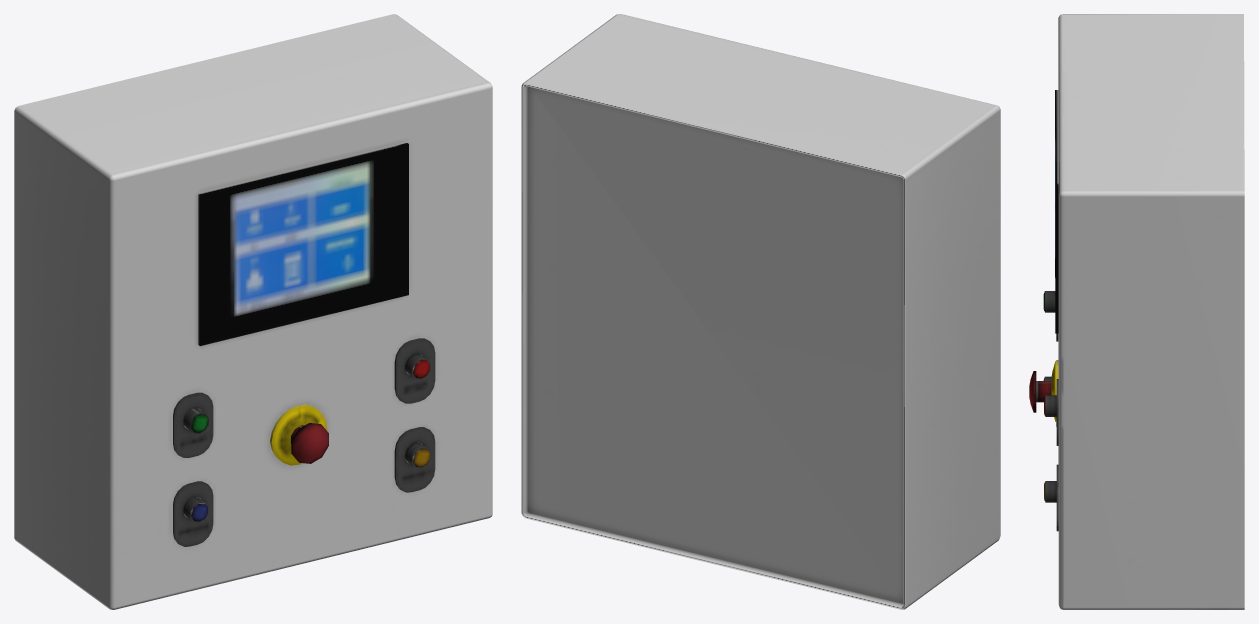
The model's file is ElectricBox2.fbx.
The picture shows the model from 3 angles, left to right: view 1: azimuth 30°, elevation 25°; view 2: azimuth 150°, elevation 25°; view 3: azimuth 270°, elevation 25°; orthographic projection. The views are drawn at different scales.
Visible parts, largest first — view 1: ElectricBox02; view 2: ElectricBox02; view 3: ElectricBox02.
Boxes of the visible parts, box(x1,y1,x2,y2) form: ElectricBox02: box(14, 14, 492, 609); ElectricBox02: box(521, 14, 1000, 609); ElectricBox02: box(1029, 14, 1244, 609).
Bounding box in the file's own units: 57.83 × 62.57 × 29.14.
